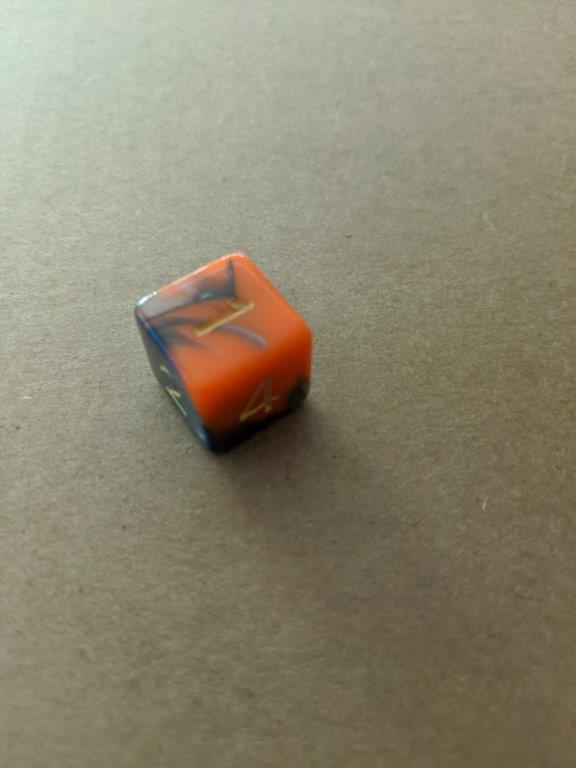d6-1: (127, 249, 314, 457)
